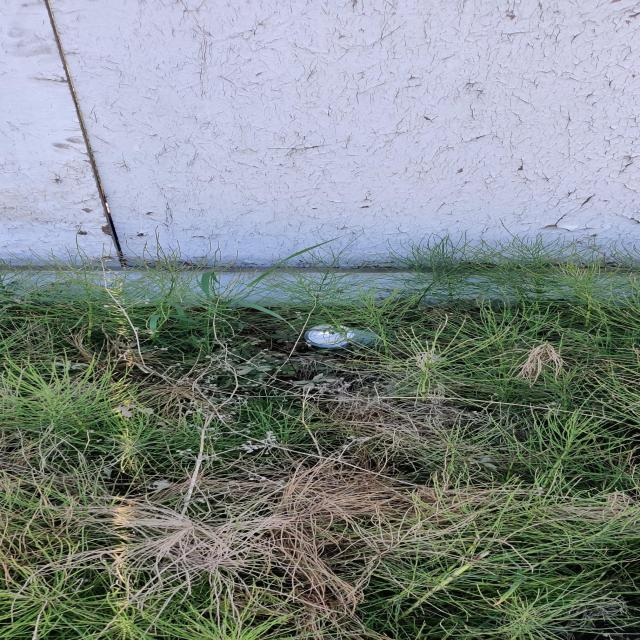litter: (304, 320, 385, 350)
